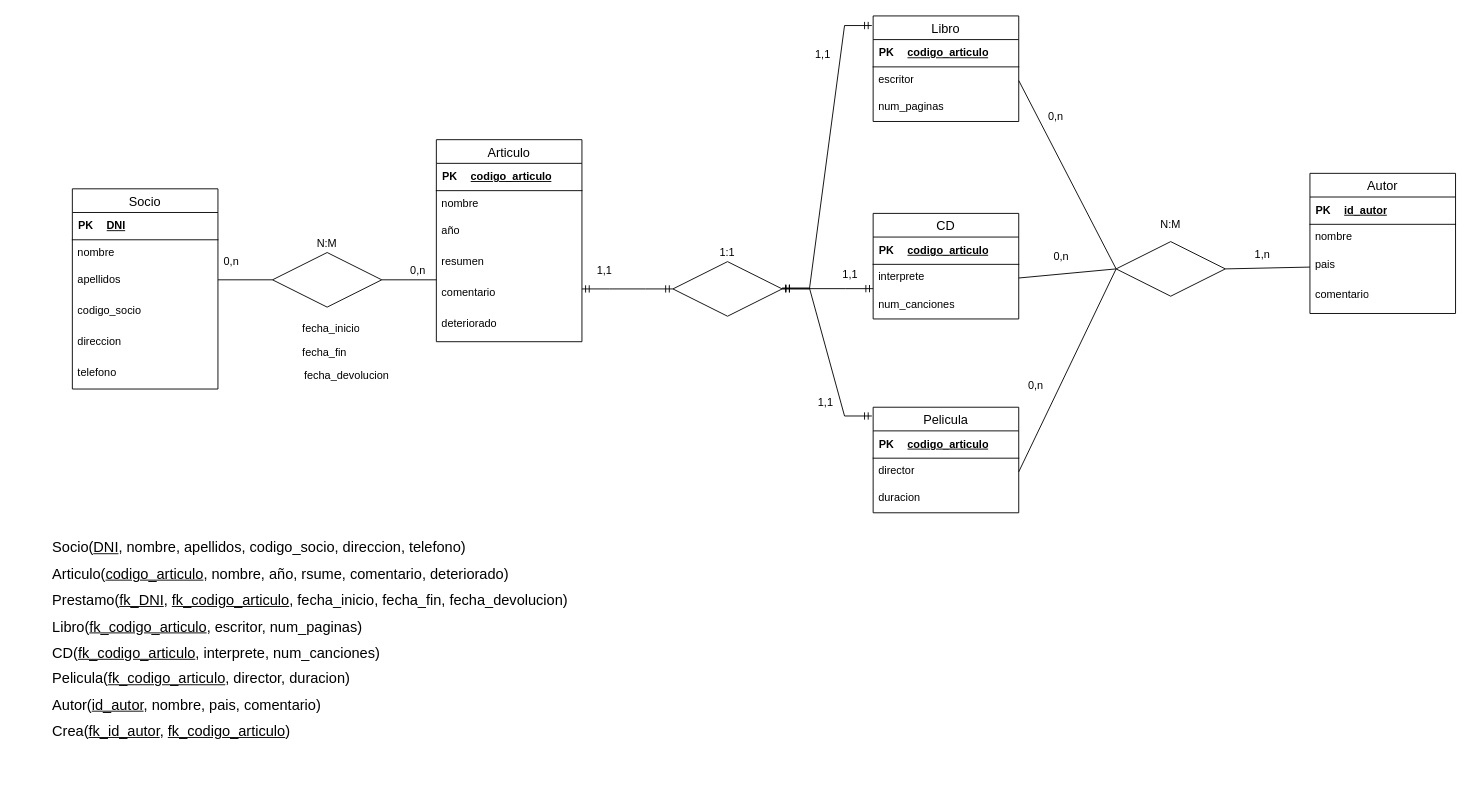
This 1471x804 diagram has some shape labels left out. Each missing label, with the centre of its shape:
"Crea" belongs at (x=1170, y=268).
"Forma" belongs at (x=727, y=288).
"Prestamo" belongs at (x=327, y=279).
